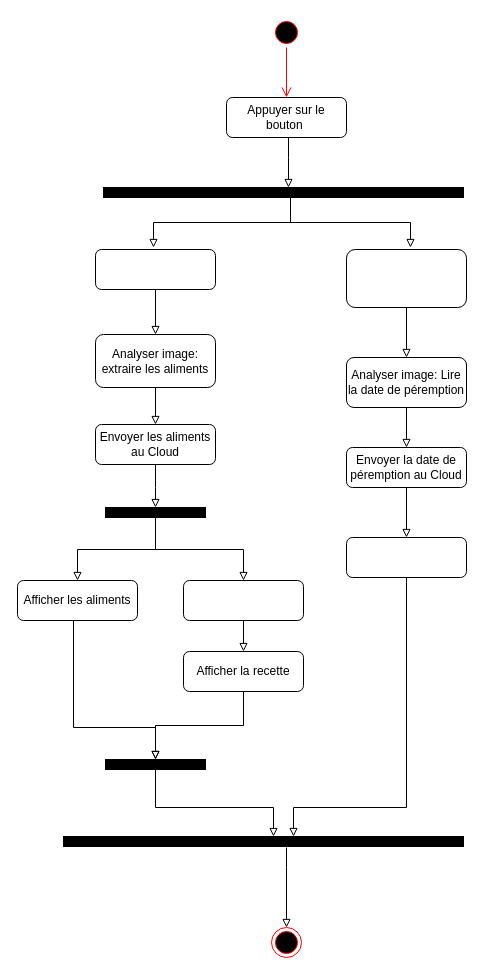
Some shapes in this 484 by 975 pixel diagram are drawn without their labels. The shapes that lost their labels are listed below. From the top down, each one's centre as x and y in pixels, then its label:
the point at 155,269: Choisir aléatoirement une image d'un frigo
the point at 406,278: Choisir aléatoirement une image d'un produit alimentaire
the point at 406,557: Afficher la date de péremption
the point at 243,600: Générer une recette avec ces aliments
